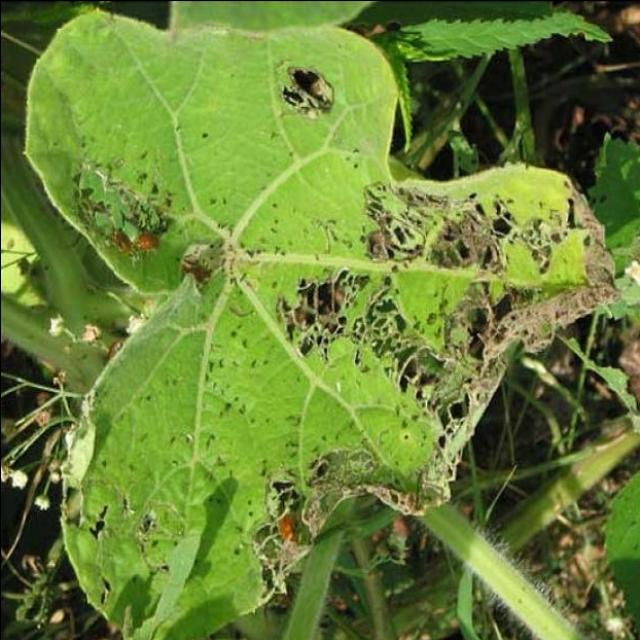Pumpkin Beetle: (220, 167, 622, 619), (48, 148, 175, 272), (61, 386, 126, 556), (262, 50, 346, 125), (178, 240, 242, 296)
